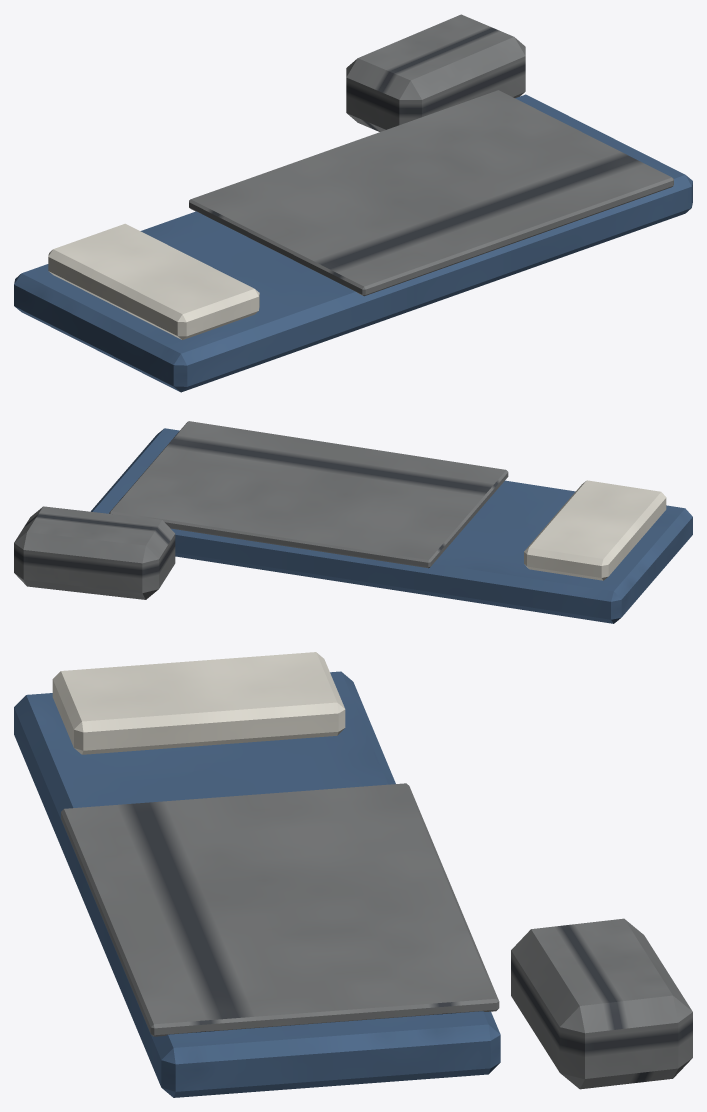
File: mattress_floor.fbx
3 renders of one model, top to bottom at view 1: azimuth 30°, elevation 25°; view 2: azimuth 150°, elevation 25°; view 3: azimuth 270°, elevation 25°, orthographic. The views are drawn at different scales.
Visible parts, largest first — view 1: mattress_floor; view 2: mattress_floor; view 3: mattress_floor.
Part boxes in pixels (box(x1,y1,x2,y2)): mattress_floor: box(14, 14, 692, 392); mattress_floor: box(14, 421, 692, 623); mattress_floor: box(14, 652, 692, 1097).
Size of the model in its own units: 1.99 by 0.2 by 1.48.
Materials: 1 (1 with a texture image).
